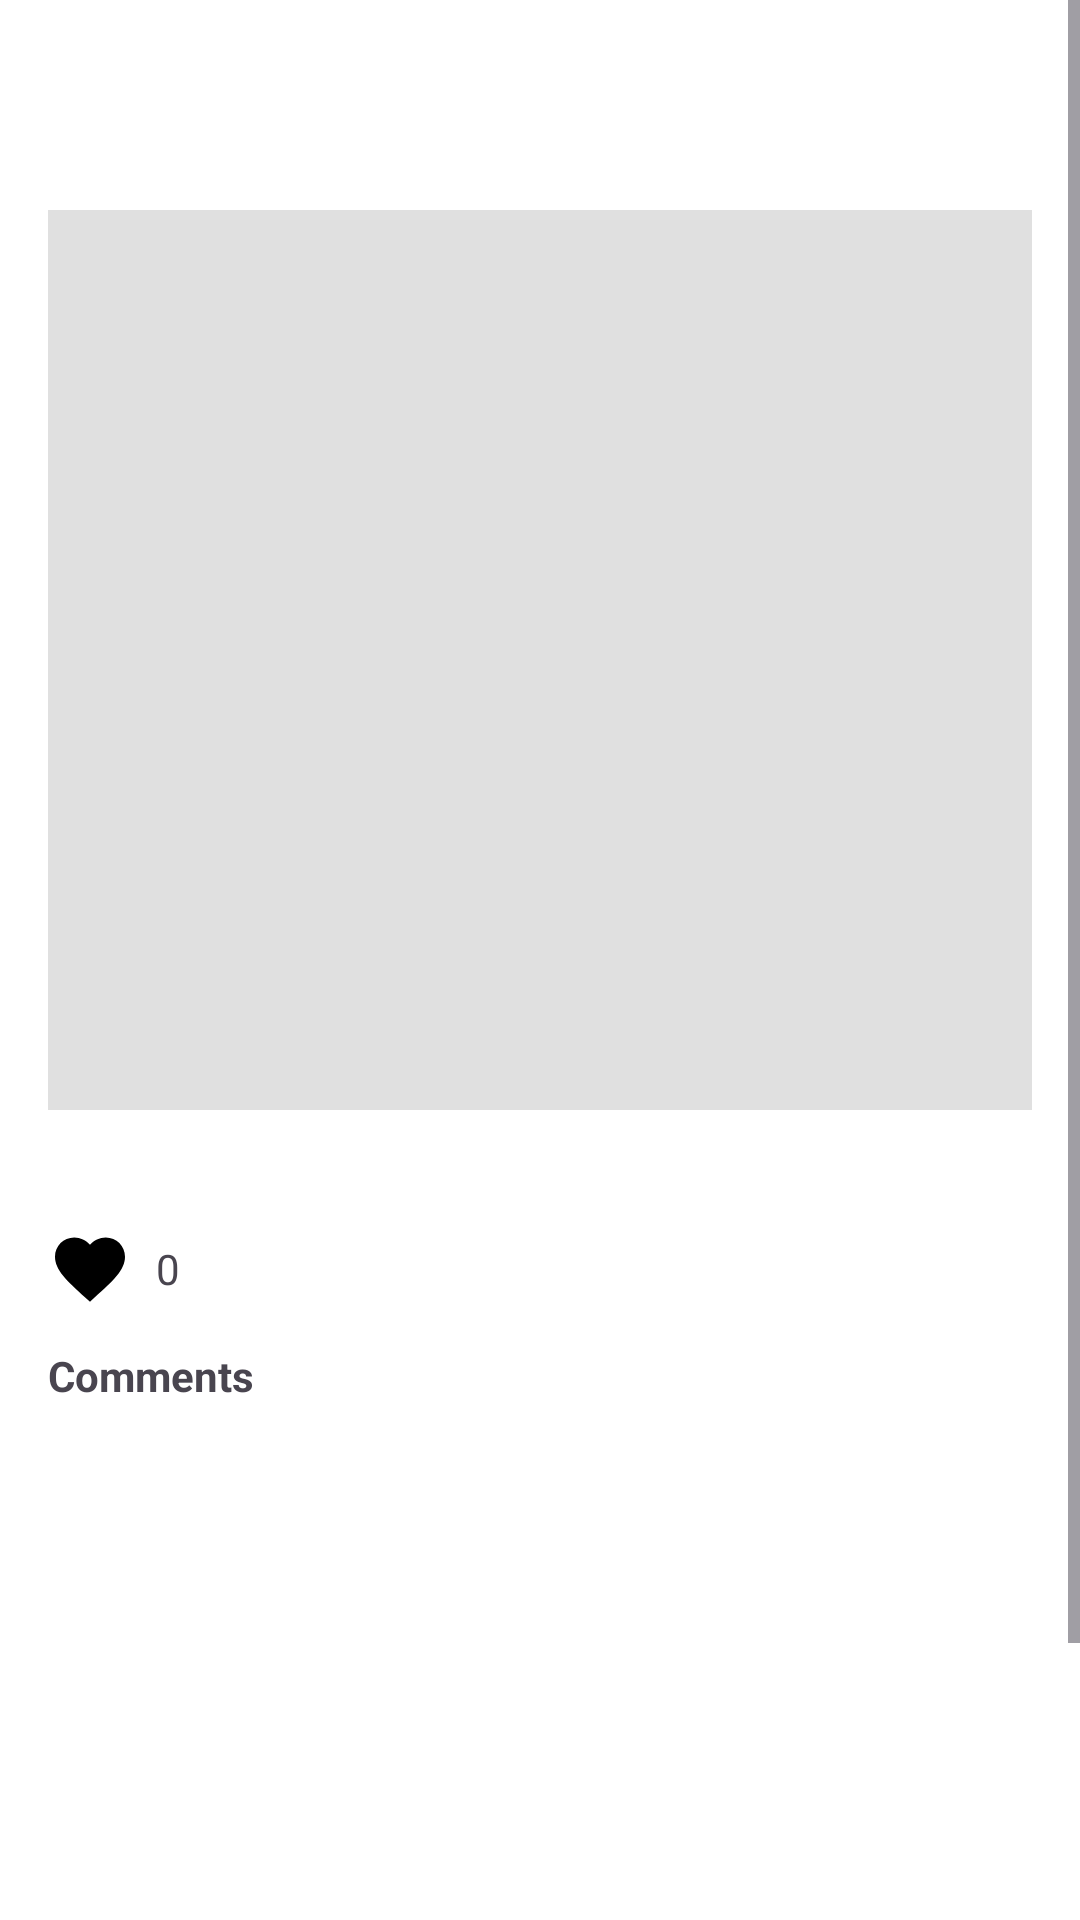

Screen size 1080px x 1920px. Icon name, then its box in pixels as region(x1, y1, x2, y2):
like: region(55, 1237, 125, 1302)
